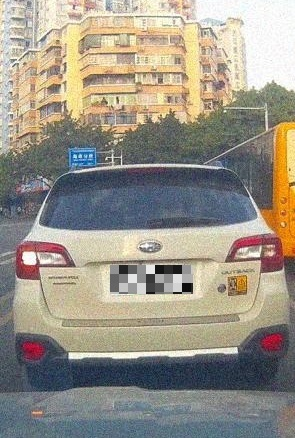L_light: (15, 241, 76, 280)
R_light: (225, 233, 284, 273)
T_light: (126, 167, 168, 174)
day-left: (13, 164, 292, 384)
plate_1: (110, 265, 193, 294)
